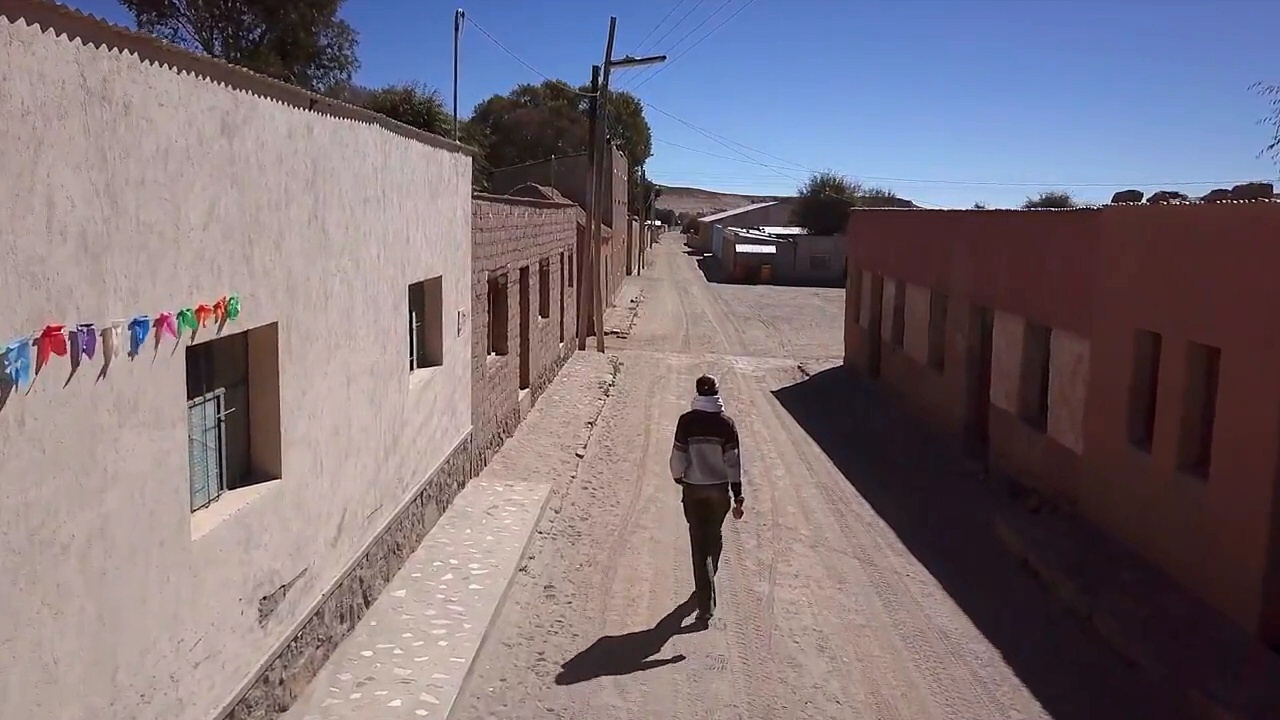insan: (664, 370, 745, 627)
